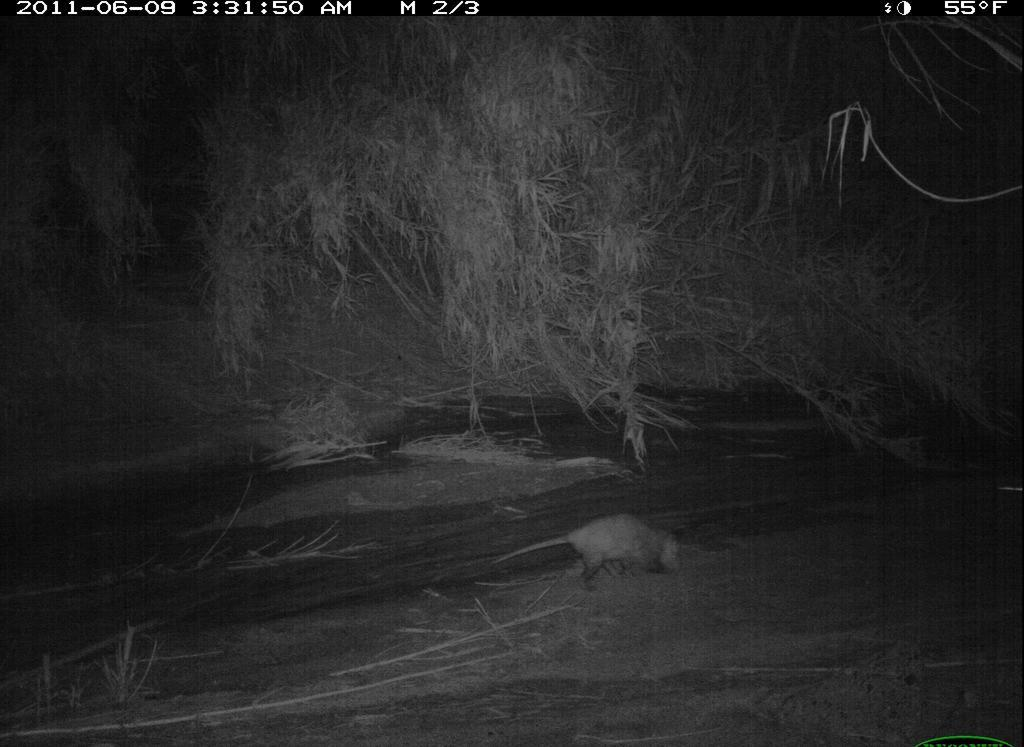opossum: (486, 504, 690, 594)
